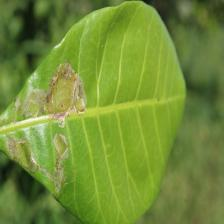leaf miner: (8, 56, 92, 126), (3, 129, 73, 198)
